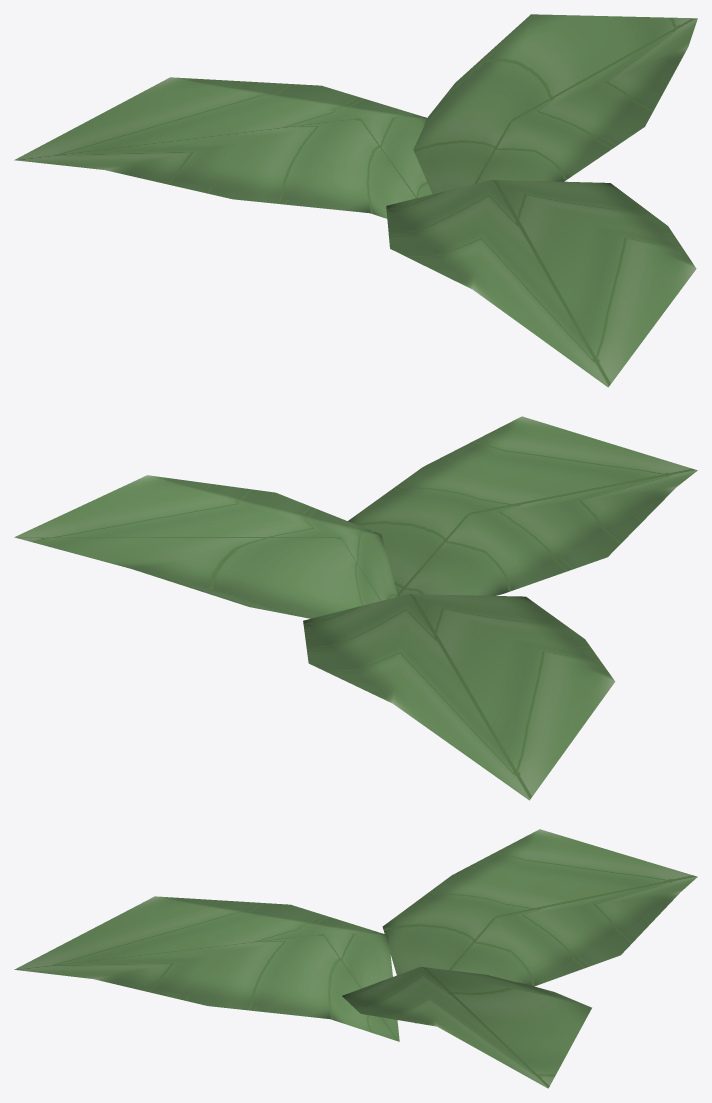
Rendered from bushplant.obj.
The picture shows the model from 3 angles, top to bottom: view 1: azimuth 30°, elevation 25°; view 2: azimuth 150°, elevation 25°; view 3: azimuth 270°, elevation 25°; orthographic projection. The views are drawn at different scales.
Visible parts, largest first — view 1: Plane001; view 2: Plane001; view 3: Plane001.
Part boxes in pixels (bbox=[...]): Plane001: bbox=[14, 14, 697, 387]; Plane001: bbox=[14, 416, 697, 800]; Plane001: bbox=[14, 829, 697, 1088].
Size of the model in its own units: 42.27 by 8.06 by 46.53.
